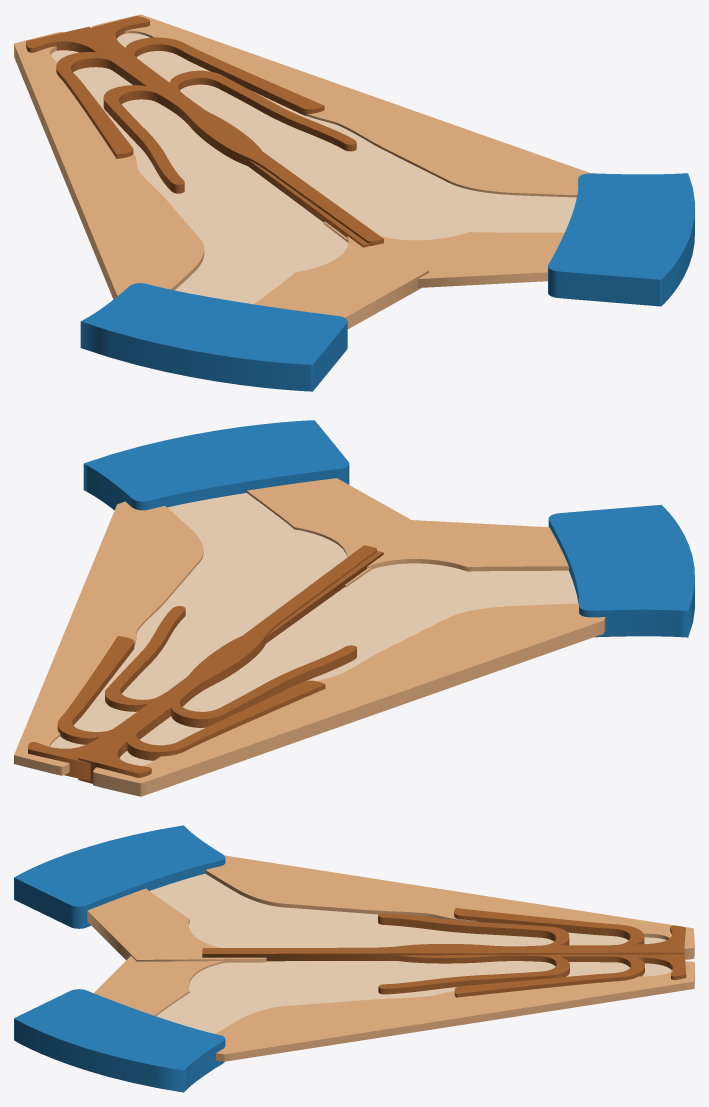
The model's file is emoji_u1f64f_1f3fb.glb.
The picture shows the model from 3 angles, top to bottom: view 1: azimuth 30°, elevation 25°; view 2: azimuth 150°, elevation 25°; view 3: azimuth 270°, elevation 25°; orthographic projection. The views are drawn at different scales.
Visible parts, largest first — view 1: emoji_u1f64f_1f3fb; view 2: emoji_u1f64f_1f3fb; view 3: emoji_u1f64f_1f3fb.
Boxes of the visible parts, left/top/right/bottom form: emoji_u1f64f_1f3fb: left=14, top=14, right=694, bottom=391; emoji_u1f64f_1f3fb: left=14, top=420, right=694, bottom=796; emoji_u1f64f_1f3fb: left=14, top=825, right=694, bottom=1092.
Bounding box in the file's own units: 0.0286 × 0.0012 × 0.0335.
